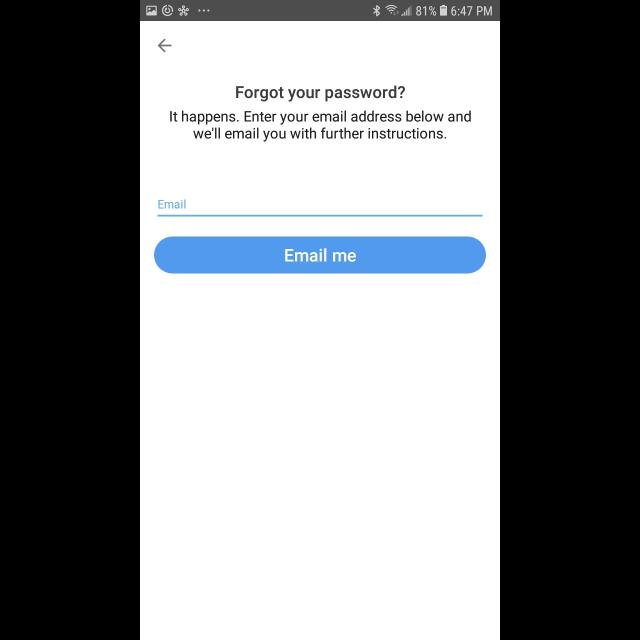icon: (158, 39, 172, 53)
input: (158, 200, 482, 217)
text: (170, 111, 472, 142), (237, 86, 406, 102), (158, 200, 186, 210)
textbutton: (154, 236, 486, 274)
uppertaskbar: (140, 1, 500, 22)
